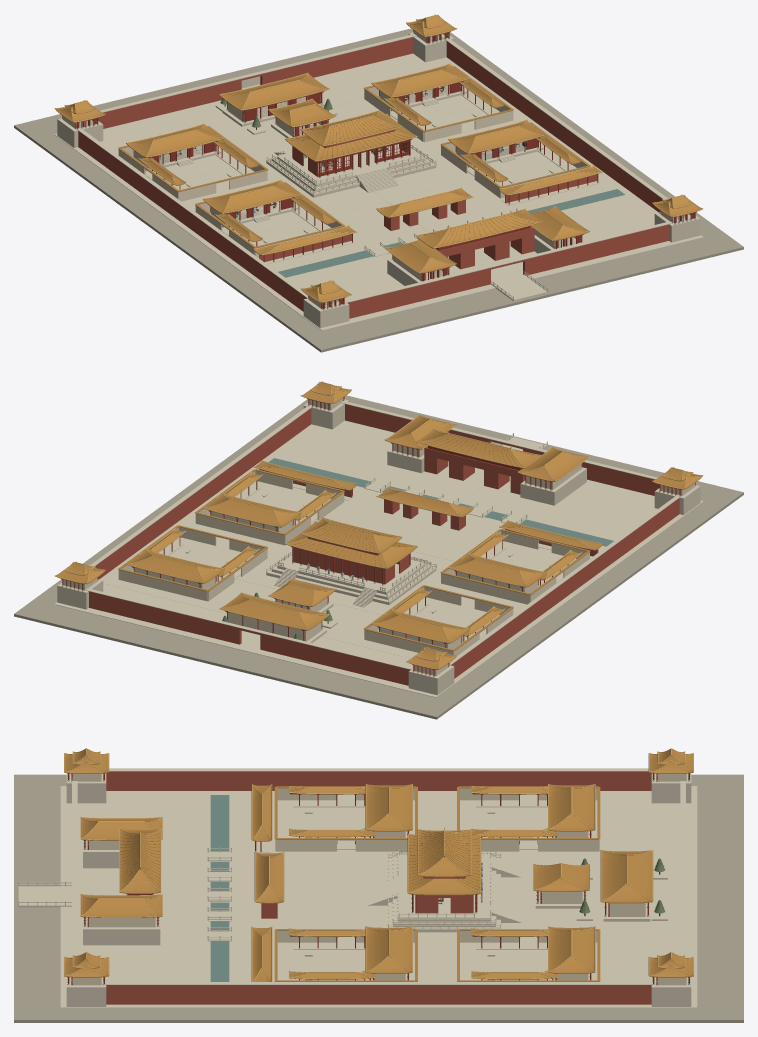
The model's file is palace-material-review.glb.
3 views of the same model, one above another, from view 1: azimuth 30°, elevation 25°; view 2: azimuth 150°, elevation 25°; view 3: azimuth 270°, elevation 25° (orthographic). The views are drawn at different scales.
Visible parts, largest first — view 1: PRECINCT_PLINTH, GROUND, WALL_end-1, WALL_end1, WALL_side-1, WALL_side1, REAR_archive_roof_lower, GATE_roof, CROSS_path-7, GATE_mass, HERO_terrace_lip2, HALL_main_roof_upper (+33 smaller); view 2: PRECINCT_PLINTH, GROUND, WALL_end1, WALL_side-1, WALL_side1, WALL_end-1, GATE_mass, REAR_archive_roof_lower, GATE_roof, HALL_main_roof_upper, HALL_main_roof_lower, CROSS_path49 (+37 smaller); view 3: PRECINCT_PLINTH, GROUND, WALL_side1, WALL_side-1, REAR_archive_roof_lower, INNER_channel, GATE_roof, HALL_main_roof_upper, CROSS_path-7, CROSS_path30, CROSS_path49, HERO_terrace_lip2 (+53 smaller).
Boxes of the visible parts, box(x1,y1,x2,y2) form: PRECINCT_PLINTH: box(54, 53, 703, 330); GROUND: box(14, 28, 743, 352); WALL_end-1: box(347, 224, 668, 318); WALL_end1: box(98, 37, 412, 128); WALL_side-1: box(78, 131, 306, 311); WALL_side1: box(446, 41, 662, 212); REAR_archive_roof_lower: box(220, 73, 328, 110); GATE_roof: box(416, 209, 542, 248); CROSS_path-7: box(247, 155, 550, 233); GATE_mass: box(435, 227, 534, 269); HERO_terrace_lip2: box(277, 144, 426, 185); HALL_main_roof_upper: box(301, 110, 401, 146); PRECINCT_PLINTH: box(54, 420, 703, 697); GROUND: box(14, 395, 743, 719); WALL_end1: box(89, 591, 410, 685); WALL_side-1: box(451, 498, 679, 678); WALL_side1: box(95, 408, 311, 579); WALL_end-1: box(345, 404, 659, 495); GATE_mass: box(424, 446, 525, 494); REAR_archive_roof_lower: box(220, 593, 329, 630); GATE_roof: box(417, 429, 542, 468); HALL_main_roof_upper: box(302, 518, 401, 553); HALL_main_roof_lower: box(285, 522, 417, 569); CROSS_path49: box(105, 578, 418, 658); PRECINCT_PLINTH: box(60, 786, 697, 1007); GROUND: box(14, 774, 743, 1022); WALL_side1: box(106, 985, 651, 1004); WALL_side-1: box(106, 771, 651, 790); REAR_archive_roof_lower: box(601, 850, 652, 903); INNER_channel: box(210, 795, 229, 981); GATE_roof: box(120, 829, 160, 893); HALL_main_roof_upper: box(418, 829, 470, 877); CROSS_path-7: box(337, 796, 355, 980); CROSS_path30: box(510, 796, 528, 980); CROSS_path49: box(599, 796, 617, 981); HERO_terrace_lip2: box(397, 854, 491, 918).
Bounding box in the file's own units: 124 × 14.05 × 156.
